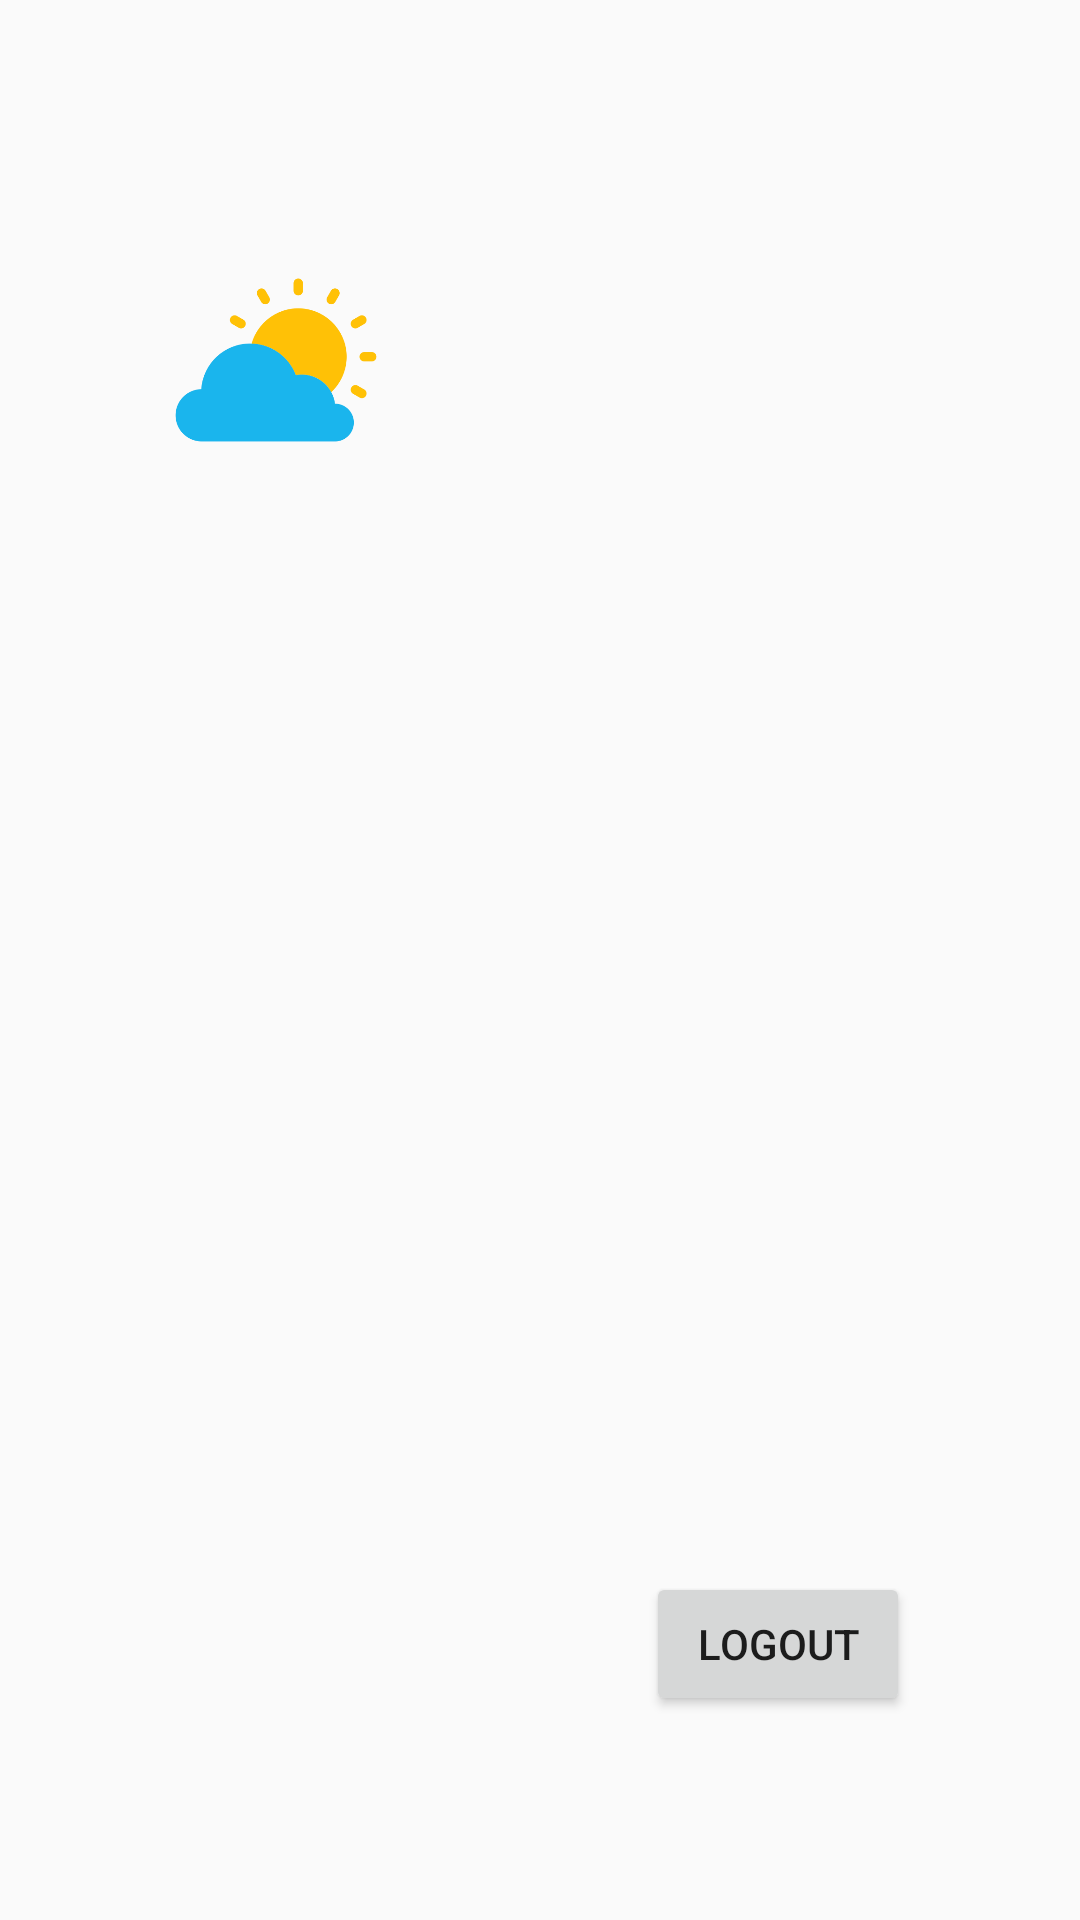

Where to tap for icons on this 1080w x 1920h app screen, as (x=x, y=y):
weather: (x=276, y=360)
